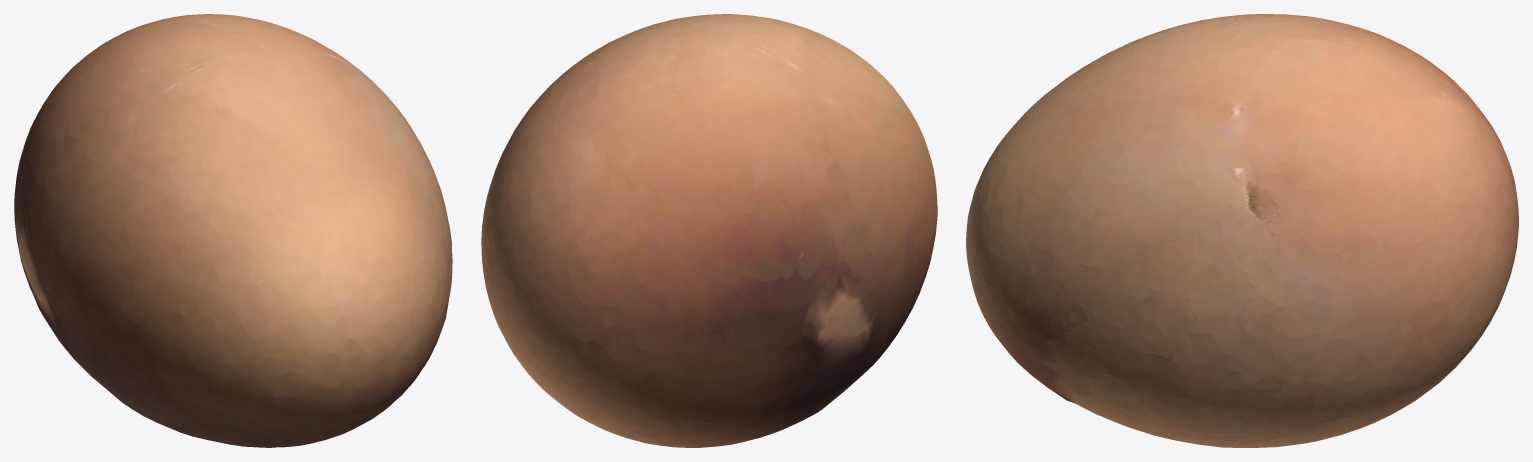
Rendered from Egg 1.fbx.
3 renders of one model, left to right at view 1: azimuth 30°, elevation 25°; view 2: azimuth 150°, elevation 25°; view 3: azimuth 270°, elevation 25°, orthographic. The views are drawn at different scales.
Parts seen in each view (by area): view 1: Egg_okay; view 2: Egg_okay; view 3: Egg_okay.
Part boxes in pixels (x1,y1,x2,y2): Egg_okay: [14, 14, 452, 447]; Egg_okay: [481, 14, 937, 447]; Egg_okay: [966, 14, 1518, 447].
Size of the model in its own units: 4.55 by 4.56 by 5.81.
